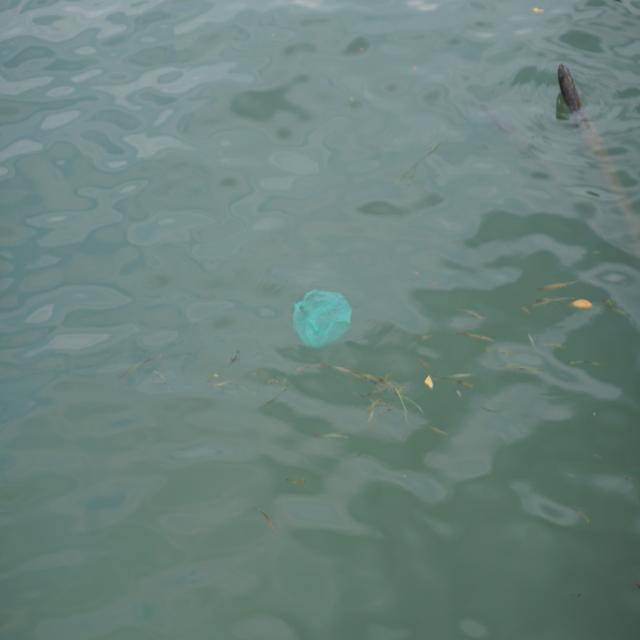Kantong Plastik: (291, 283, 356, 356)
